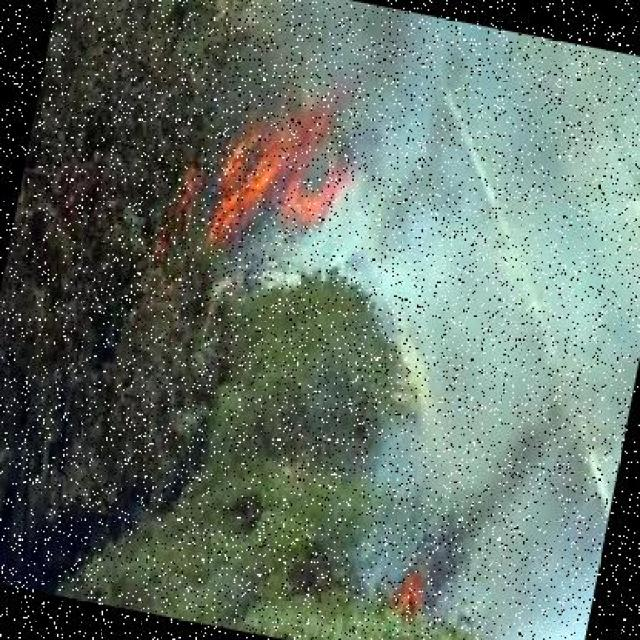fire: (137, 63, 369, 289)
